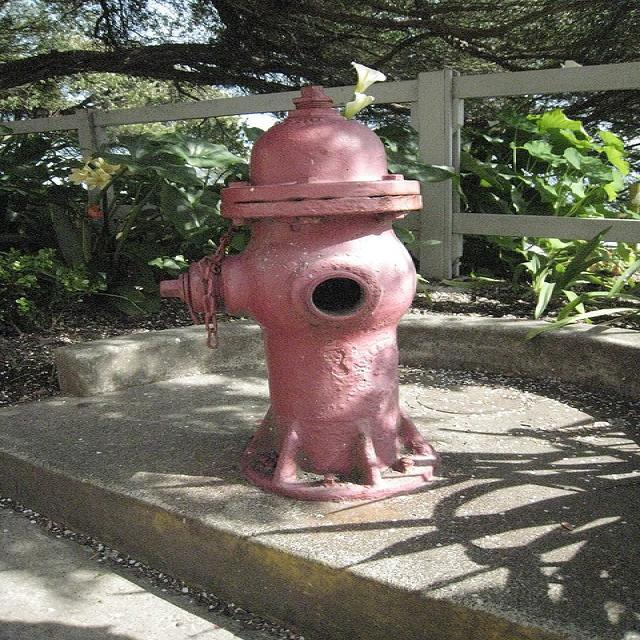fire_hydrant: (157, 84, 443, 501)
